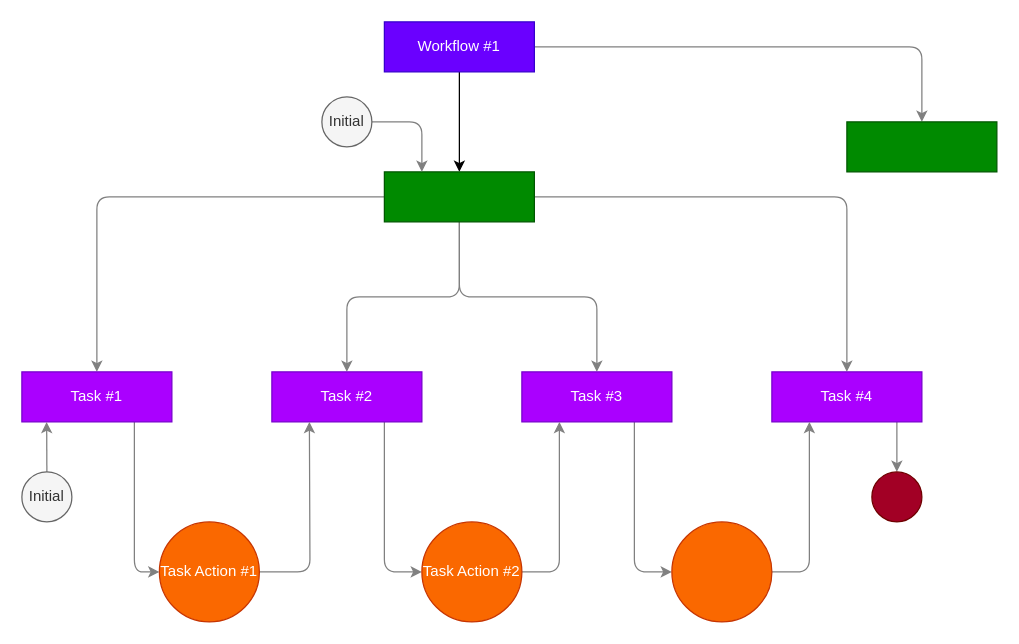
This 1019x644 diagram has some shape labels left out. Here are the shapes that lost their labels. From the top down, the box of each, then its label:
(846, 121, 997, 172): Stage #2
(383, 171, 534, 222): Stage #1
(871, 471, 922, 522): End
(671, 521, 772, 622): Task Action #3
